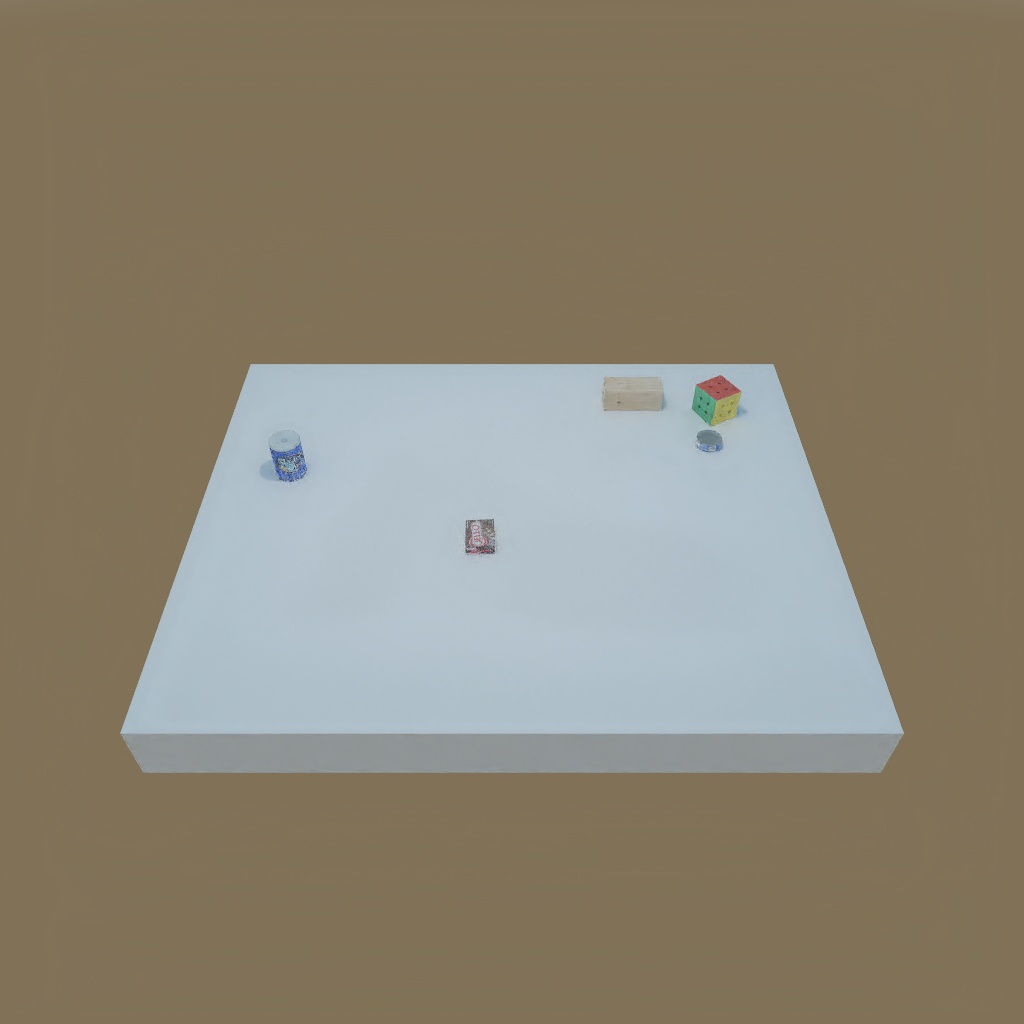master_chef_can: (265, 430, 313, 483)
pudding_box: (464, 514, 499, 556)
rubiks_cube: (690, 372, 745, 425)
wood_block: (598, 374, 668, 413)
